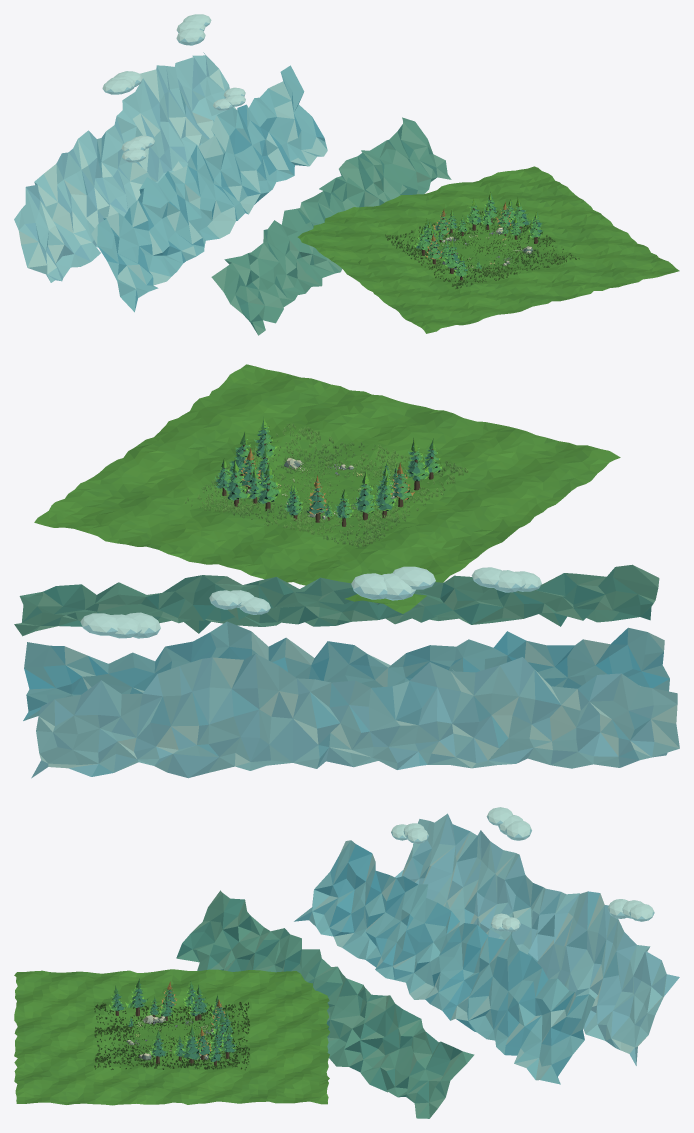
Rendered from forest-meadow.glb.
3 views of the same model, one above another, from view 1: azimuth 30°, elevation 25°; view 2: azimuth 150°, elevation 25°; view 3: azimuth 270°, elevation 25° (orthographic). The views are drawn at different scales.
Parts seen in each view (by area): view 1: Distant mountain and cloud sky, Emerald meadow facets, Alpine pine grove, Fine meadow drift grass; view 2: Distant mountain and cloud sky, Emerald meadow facets, Alpine pine grove, Fine meadow drift grass; view 3: Distant mountain and cloud sky, Emerald meadow facets, Alpine pine grove, Fine meadow drift grass.
Part boxes in pixels (left/top/right/bottom): Distant mountain and cloud sky: left=14, top=14, right=451, bottom=335; Emerald meadow facets: left=297, top=166, right=679, bottom=333; Alpine pine grove: left=414, top=191, right=543, bottom=280; Fine meadow drift grass: left=385, top=210, right=579, bottom=289; Distant mountain and cloud sky: left=14, top=564, right=679, bottom=778; Emerald meadow facets: left=34, top=364, right=620, bottom=613; Alpine pine grove: left=214, top=417, right=442, bottom=526; Fine meadow drift grass: left=184, top=423, right=468, bottom=547; Distant mountain and cloud sky: left=176, top=807, right=679, bottom=1118; Emerald meadow facets: left=14, top=969, right=329, bottom=1105; Alpine pine grove: left=109, top=978, right=237, bottom=1065; Fine meadow drift grass: left=94, top=1001, right=249, bottom=1070.
Size of the model in its own units: 104 by 29.82 by 117.
